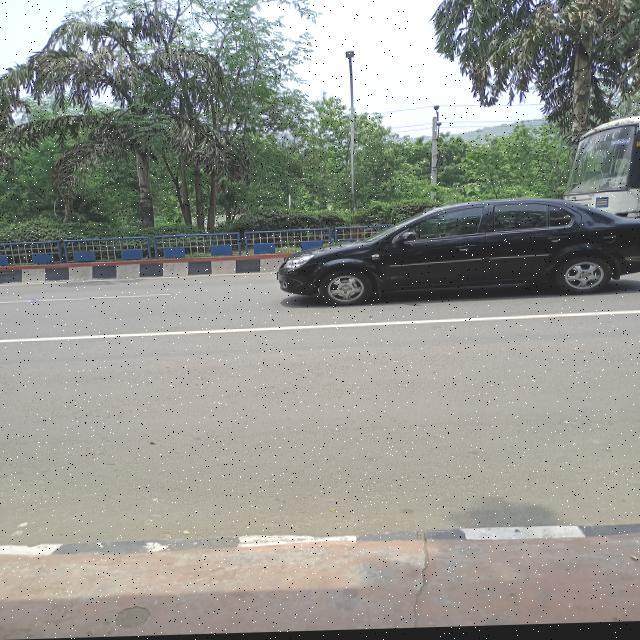car: (269, 193, 635, 311)
